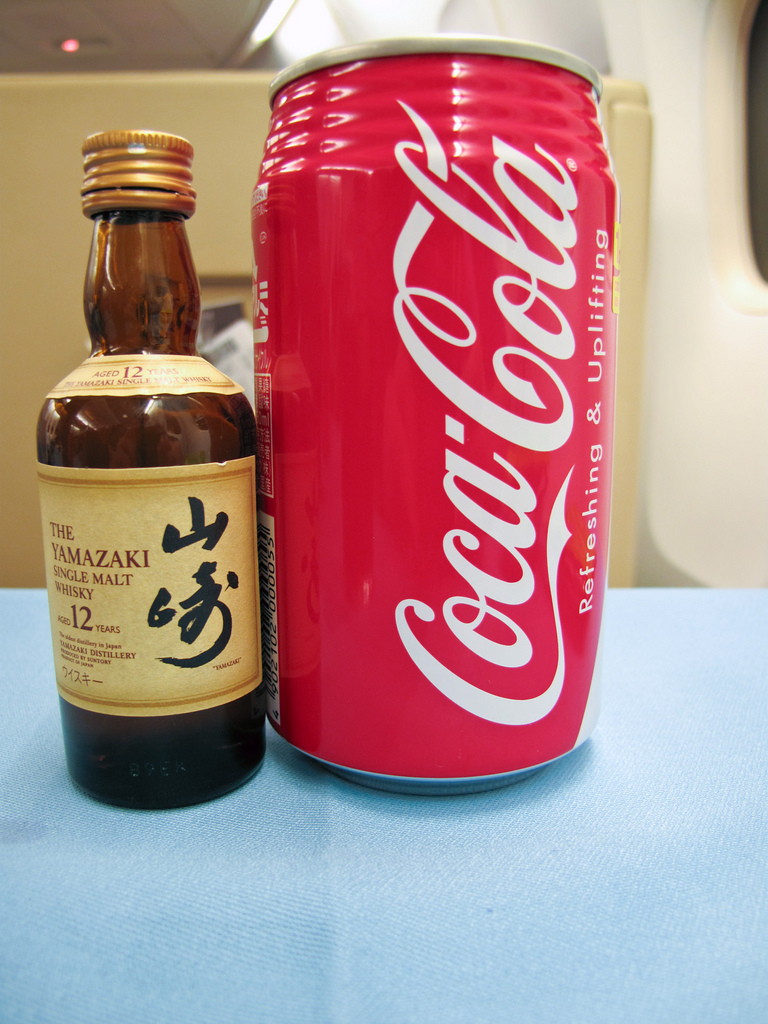coke: (269, 66, 609, 801)
